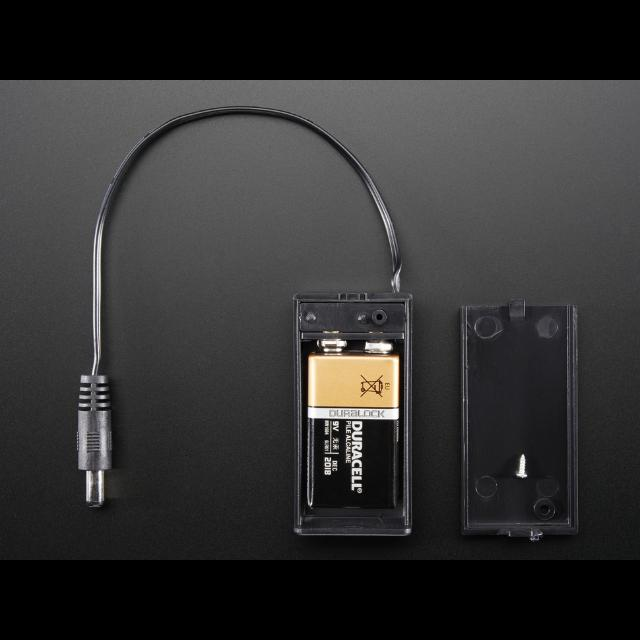Battery: (307, 340, 400, 510)
